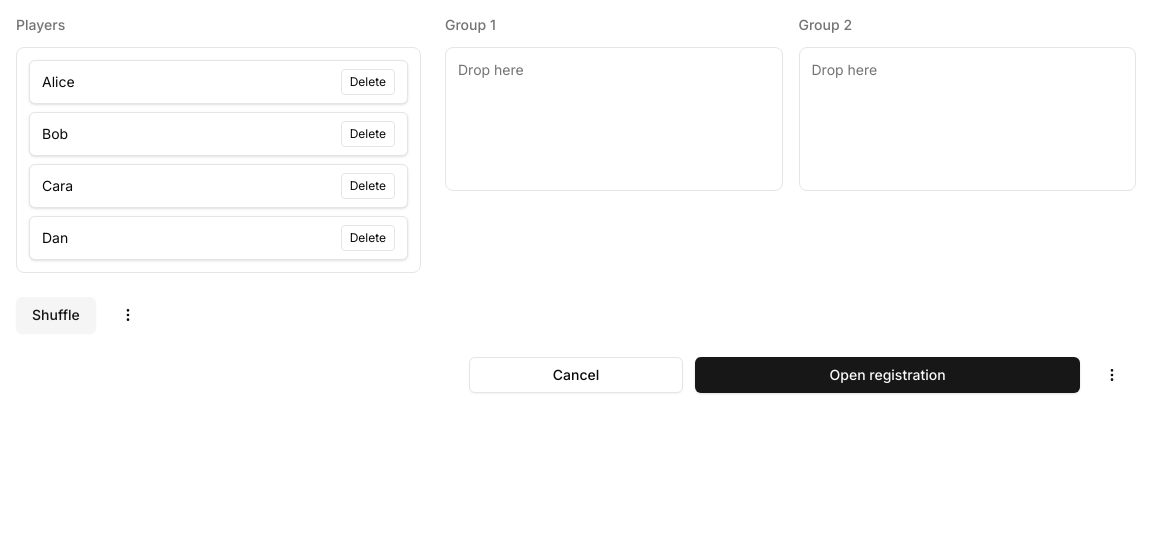
it: TeamsAssignment component › adds a new group via Actions menu (Arrange-Act-Assert)
The width and height of the screenshot is (1153, 545).
Click the button named "Actions" at (128, 315), box [104,297,152,333]
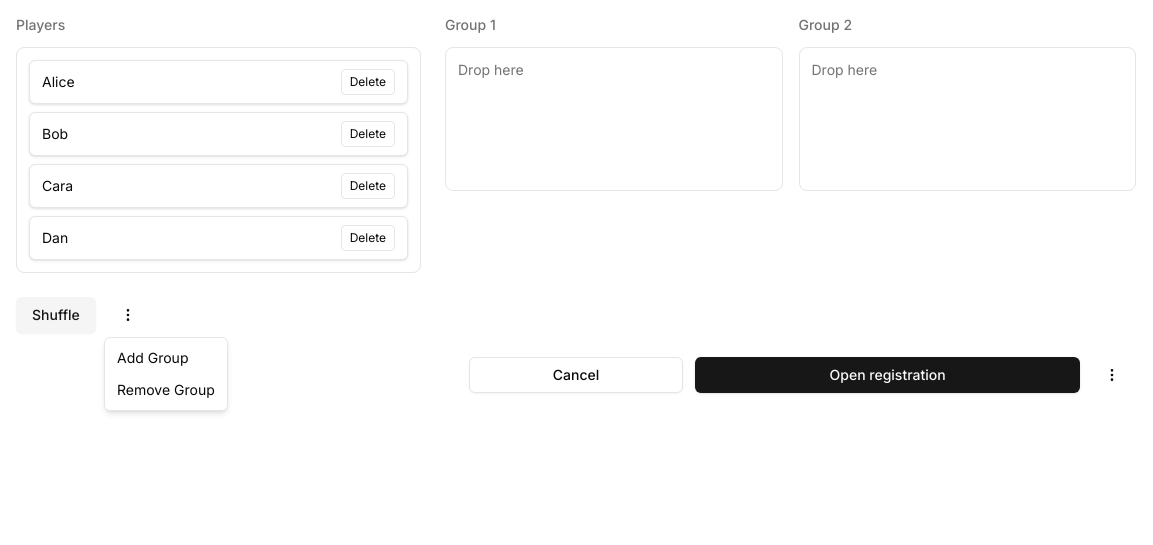
Click the menu item "Add Group" at (153, 358), box [117,349,188,366]
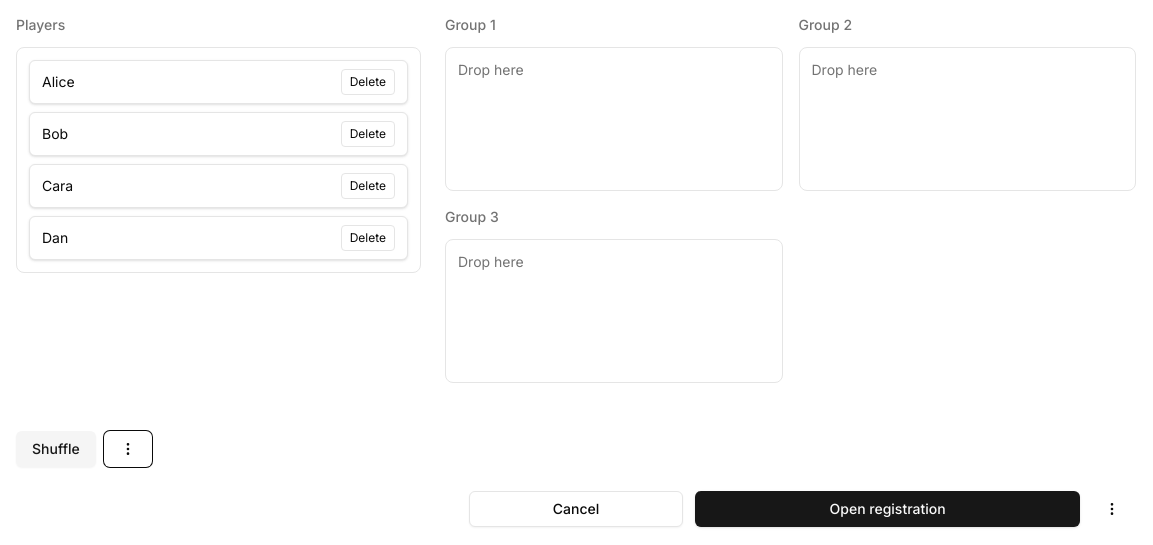
Now the number of headings "Group 1" is 3, box [445,16,496,33]; [798,16,852,33]; [445,208,499,225]
